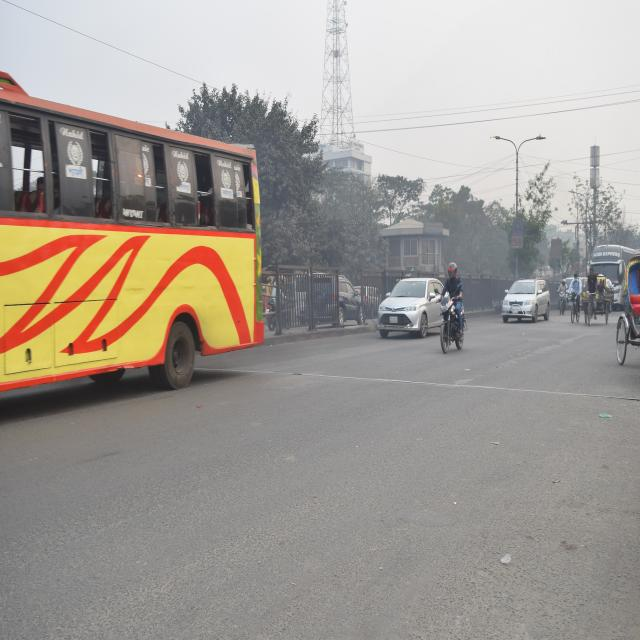bus: (0, 54, 295, 409), (587, 247, 625, 313)
car: (372, 260, 441, 340), (490, 268, 559, 335)
motorbike: (436, 291, 477, 359)
